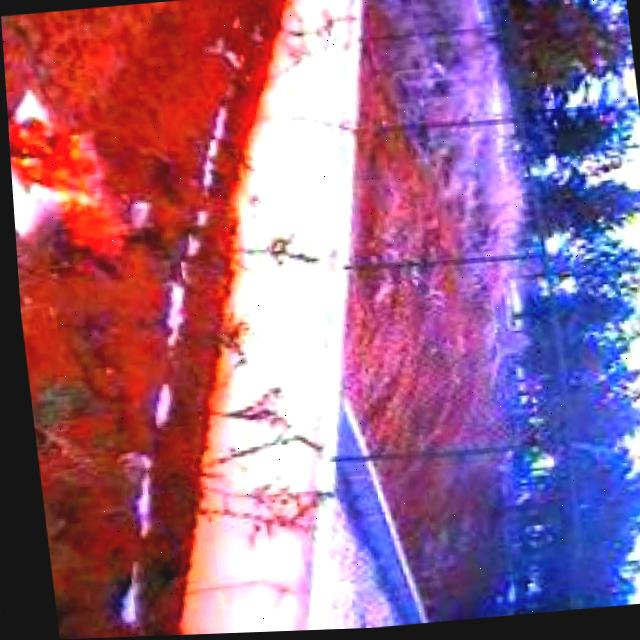Fire: (6, 109, 126, 264)
